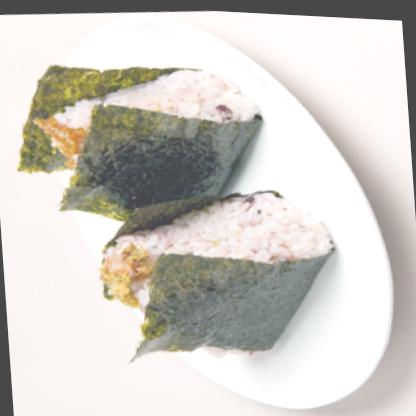rice roll: (82, 174, 350, 361), (15, 50, 274, 231)
